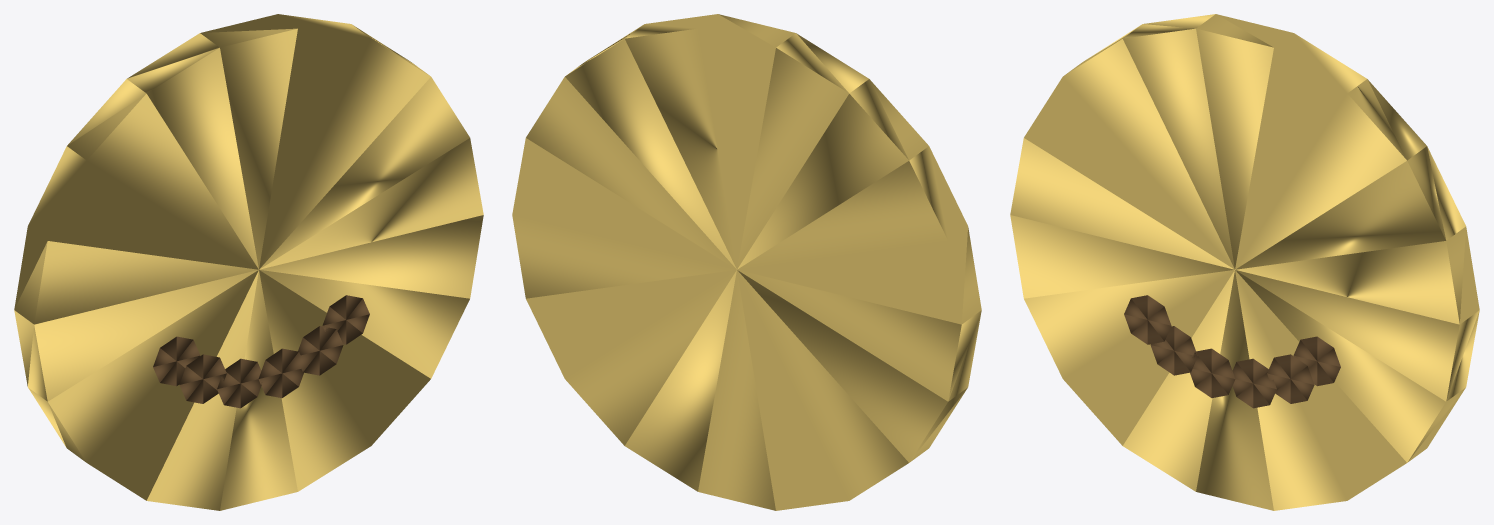
The model's file is love.glb.
The picture shows the model from 3 angles, left to right: view 1: azimuth 30°, elevation 25°; view 2: azimuth 150°, elevation 25°; view 3: azimuth 330°, elevation 25°; orthographic projection.
Visible parts, largest first — view 1: love; view 2: love; view 3: love.
Boxes of the visible parts, x1,y1,x2,y2 form: love: [14, 14, 483, 510]; love: [512, 14, 981, 510]; love: [1010, 14, 1479, 510].
Bounding box in the file's own units: 1.04 × 1.02 × 0.09.
